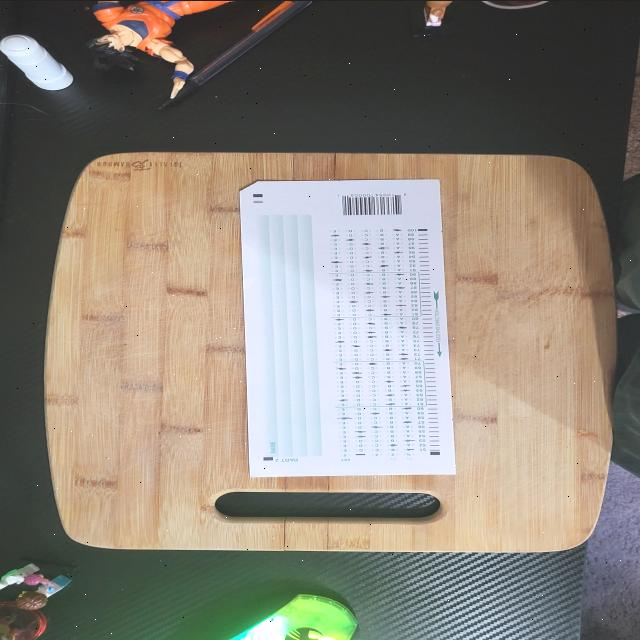scantron_back: (239, 179, 455, 476)
